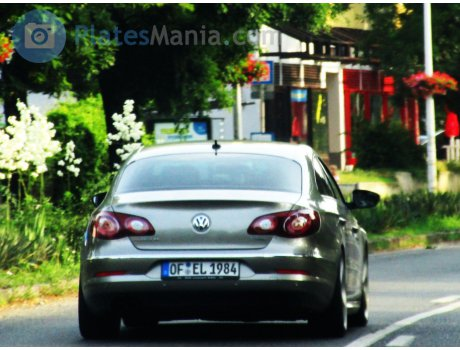License Plates: (169, 260, 245, 276)
